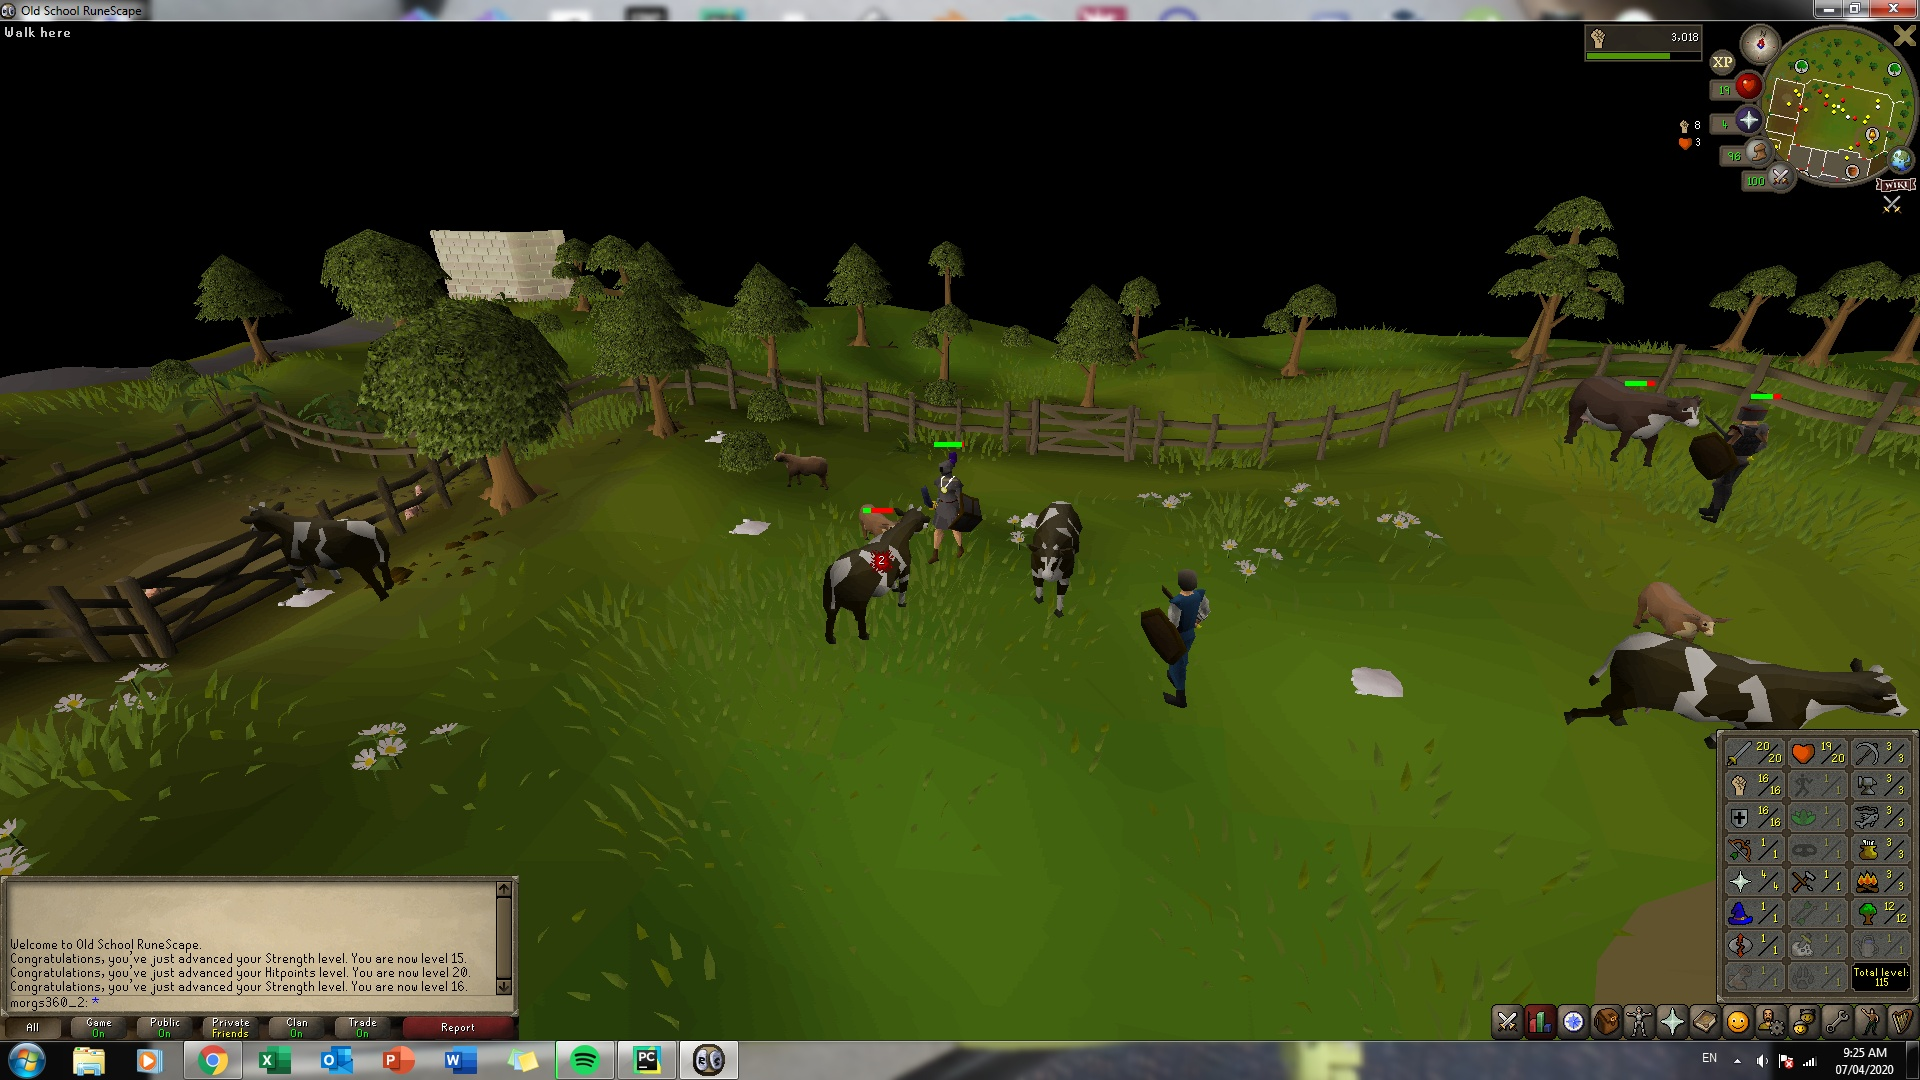cow: (1575, 621, 1909, 723), (232, 496, 404, 603), (812, 502, 931, 647), (1563, 359, 1702, 471), (1023, 492, 1087, 620)
